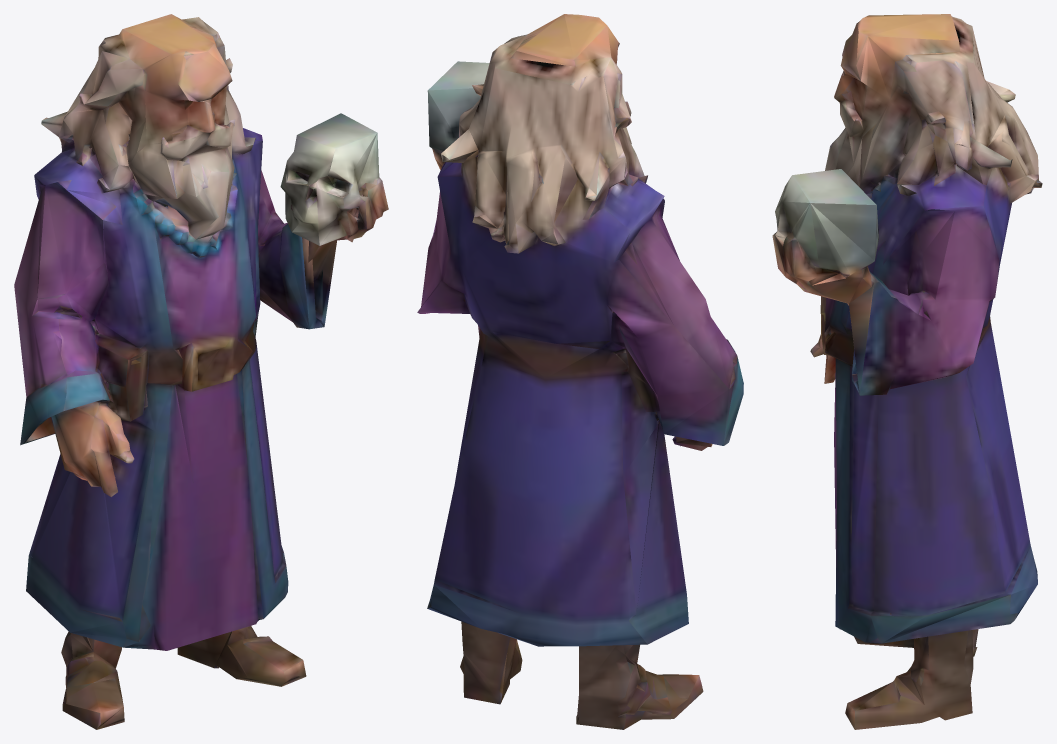
The picture shows the model from 3 angles, left to right: view 1: azimuth 30°, elevation 25°; view 2: azimuth 150°, elevation 25°; view 3: azimuth 270°, elevation 25°; orthographic projection.
Visible parts, largest first — view 1: Skull miser; view 2: Skull miser; view 3: Skull miser.
Part boxes in pixels (x1,y1,x2,y2): Skull miser: (14, 14, 388, 729); Skull miser: (417, 14, 743, 729); Skull miser: (772, 14, 1042, 729).
Size of the model in its own units: 0.9564 by 1.86 by 0.6938.
1 material, 1 textured.
